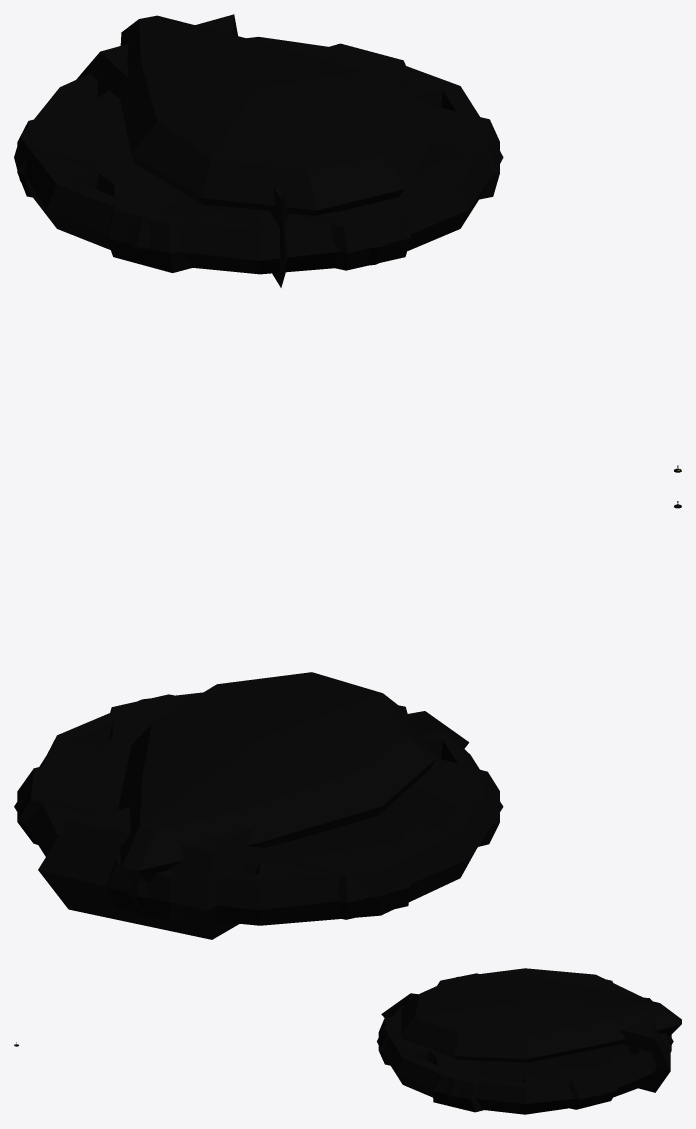
The model's file is cyber_SM_Prop_Pipe_Junction_Attatchment_05.gltf.
The picture shows the model from 3 angles, top to bottom: view 1: azimuth 30°, elevation 25°; view 2: azimuth 150°, elevation 25°; view 3: azimuth 270°, elevation 25°; orthographic projection. The views are drawn at different scales.
Parts seen in each view (by area): view 1: SM_Prop_Pipe_Junction_Attatchment_05_Liquid_Holo, SM_Prop_Pipe_Junction_Attatchment_05_Toxic_Holo, SM_Prop_Pipe_Junction_Attatchment_05_Gear_Holo, SM_Prop_Pipe_Junction_Attatchment_05_Power_Holo; view 2: SM_Prop_Pipe_Junction_Attatchment_05_Liquid_Holo, SM_Prop_Pipe_Junction_Attatchment_05_Gear_Holo, SM_Prop_Pipe_Junction_Attatchment_05_Toxic_Holo, SM_Prop_Pipe_Junction_Attatchment_05_Power_Holo; view 3: SM_Prop_Pipe_Junction_Attatchment_05_Liquid_Holo, SM_Prop_Pipe_Junction_Attatchment_05_Toxic_Holo, SM_Prop_Pipe_Junction_Attatchment_05_Gear_Holo, SM_Prop_Pipe_Junction_Attatchment_05_Power_Holo.
Part boxes in pixels (x1,y1,x2,y2): SM_Prop_Pipe_Junction_Attatchment_05_Liquid_Holo: [118, 15, 432, 215]; SM_Prop_Pipe_Junction_Attatchment_05_Toxic_Holo: [14, 36, 503, 274]; SM_Prop_Pipe_Junction_Attatchment_05_Gear_Holo: [17, 43, 499, 272]; SM_Prop_Pipe_Junction_Attatchment_05_Power_Holo: [76, 14, 288, 287]; SM_Prop_Pipe_Junction_Attatchment_05_Liquid_Holo: [118, 672, 435, 882]; SM_Prop_Pipe_Junction_Attatchment_05_Gear_Holo: [17, 694, 499, 921]; SM_Prop_Pipe_Junction_Attatchment_05_Toxic_Holo: [14, 692, 503, 925]; SM_Prop_Pipe_Junction_Attatchment_05_Power_Holo: [38, 711, 468, 939]; SM_Prop_Pipe_Junction_Attatchment_05_Liquid_Holo: [401, 976, 681, 1062]; SM_Prop_Pipe_Junction_Attatchment_05_Toxic_Holo: [377, 968, 673, 1114]; SM_Prop_Pipe_Junction_Attatchment_05_Gear_Holo: [378, 973, 671, 1112]; SM_Prop_Pipe_Junction_Attatchment_05_Power_Holo: [381, 993, 670, 1092].
Size of the model in its own units: 66.13 by 16.75 by 149.
1 material, 1 textured.
